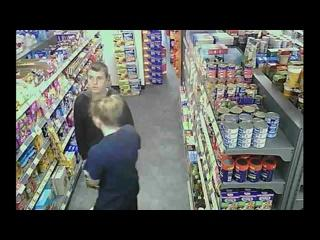shoplifting: (85, 94, 142, 210), (72, 63, 134, 161)
